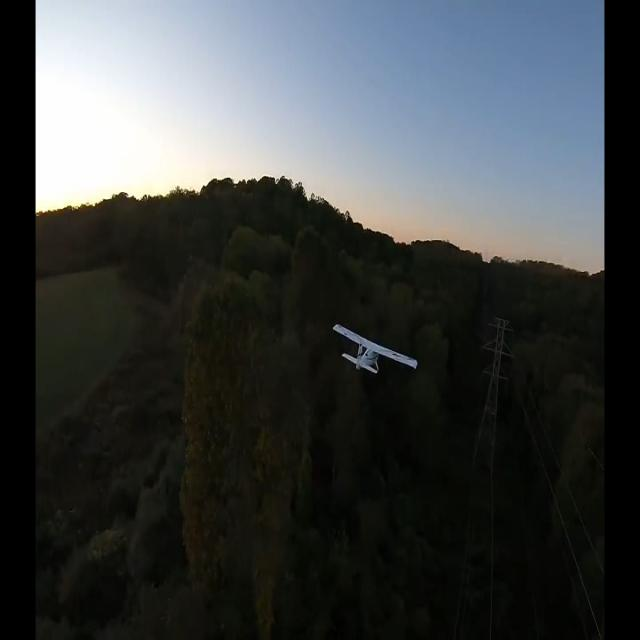iha: (365, 321, 386, 379)
